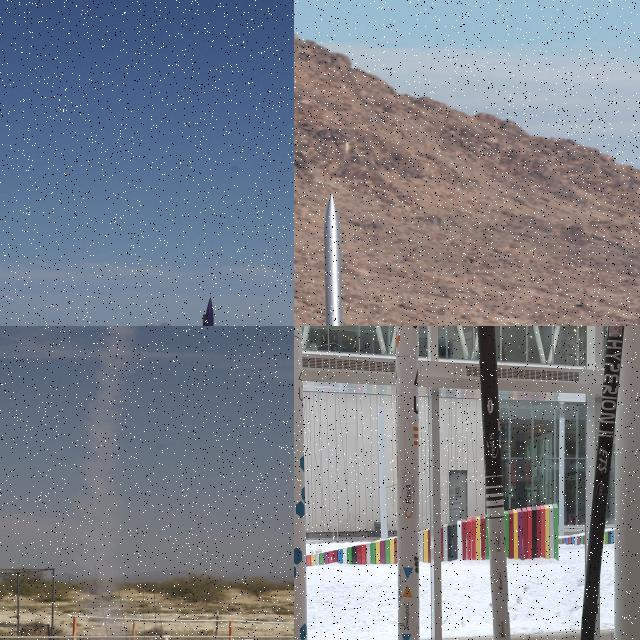Rocket: (580, 326, 625, 640), (477, 326, 511, 640), (396, 326, 419, 640), (314, 192, 355, 326), (294, 326, 307, 640), (184, 297, 223, 326)
